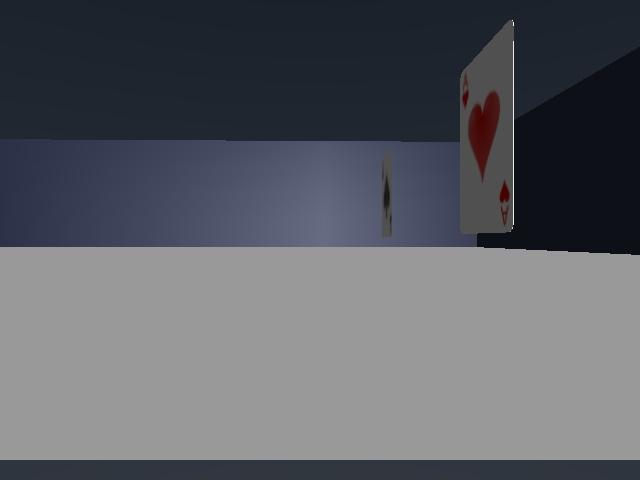club: (382, 153, 391, 236)
heart: (460, 21, 513, 233)
